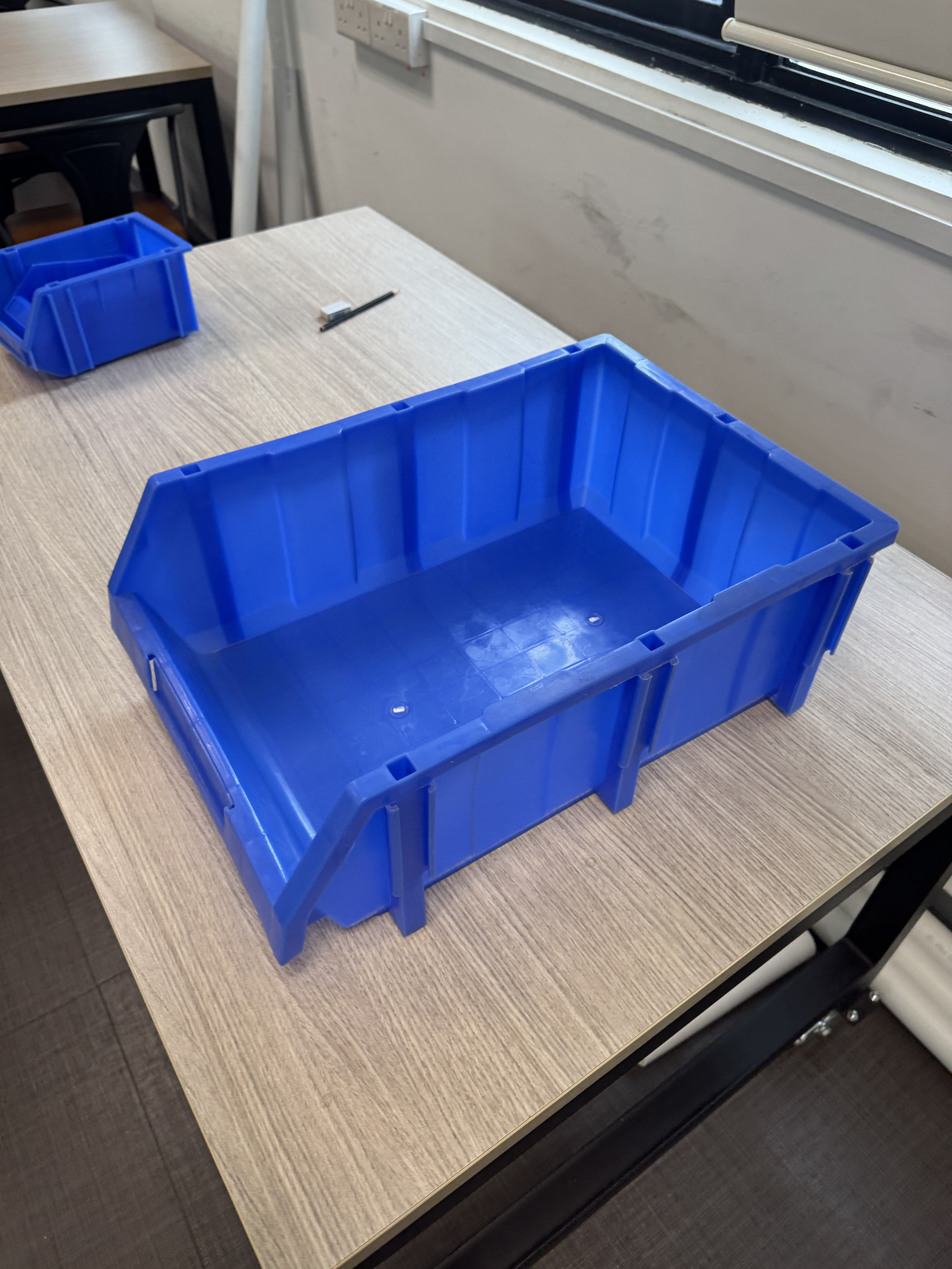Bin Boundary: (93, 200, 887, 884)
